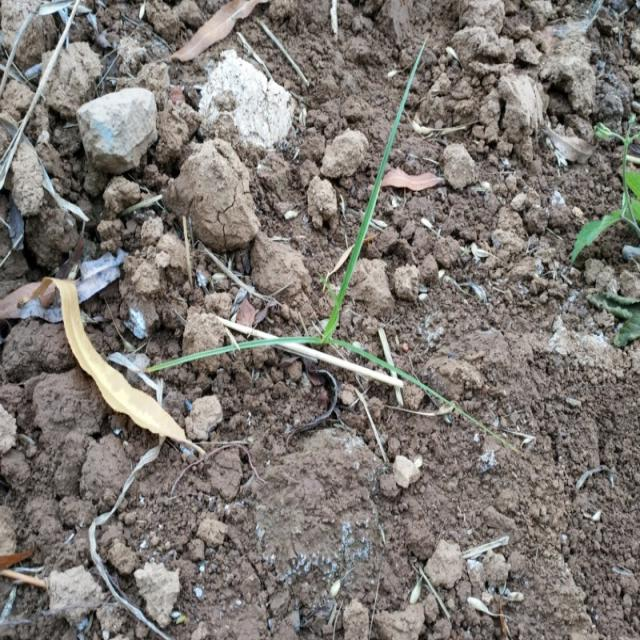sedge: (206, 102, 494, 440)
